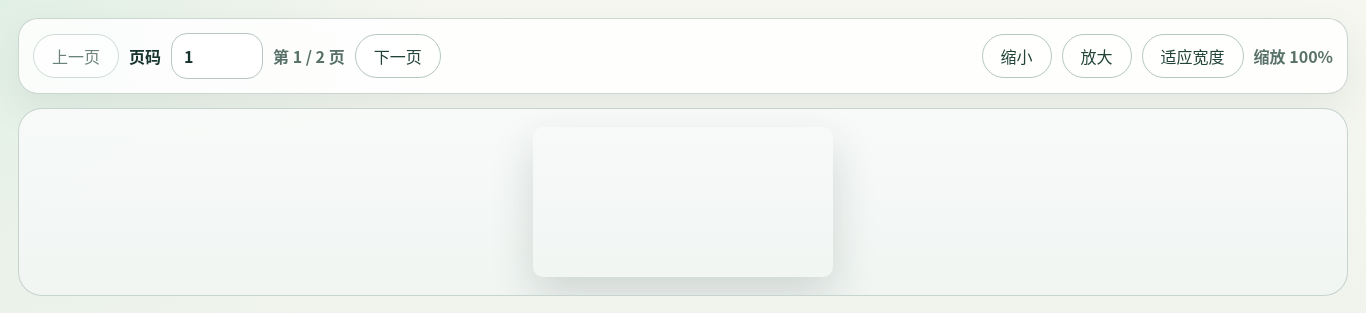
Test: PdfPanel › navigates with previous and next while enforcing both page boundaries
expect the button "上一页" is disabled: met, box [33,34,119,78]
Click the button "下一页" at (398, 56), box [355,34,441,78]
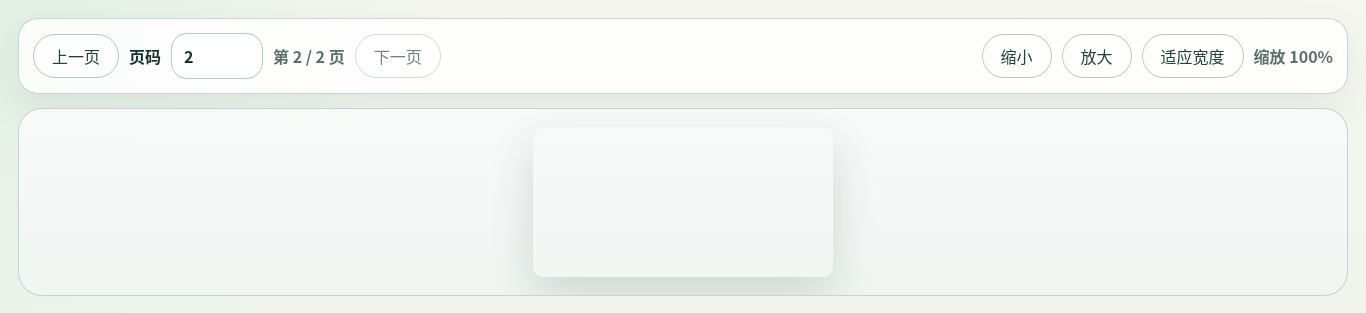
expect the message named "页码状态" reads "第 2 / 2 页": met, box [273,44,345,68]
expect the button "下一页" is disabled: met, box [355,34,441,78]
Click the button "上一页" at (76, 56), box [33,34,119,78]
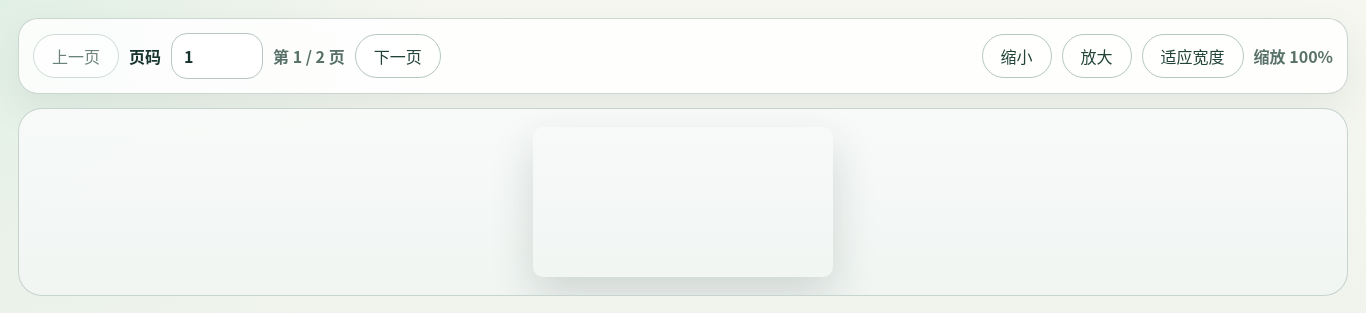
expect the button "上一页" is disabled: met, box [33,34,119,78]
